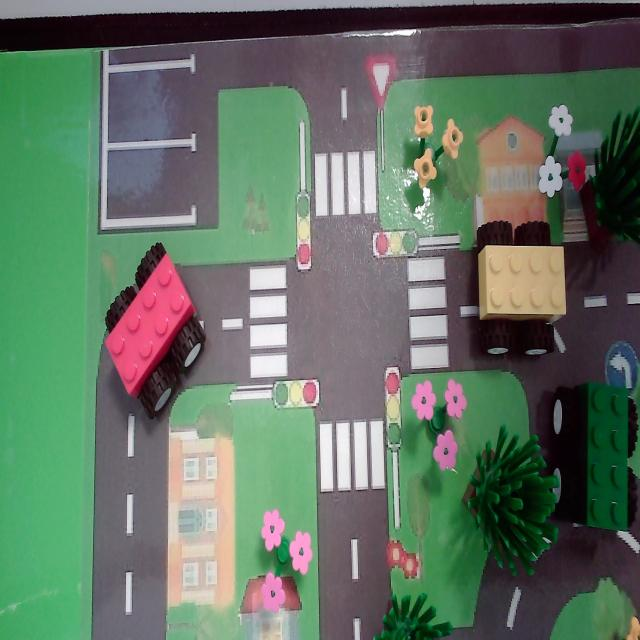Car: (104, 230, 208, 430), (547, 377, 640, 544), (470, 214, 568, 370)
Flower: (242, 502, 322, 617), (524, 94, 589, 207), (404, 98, 472, 195), (405, 372, 470, 472)
Tree: (459, 432, 556, 584), (581, 100, 640, 273), (362, 577, 460, 640)
